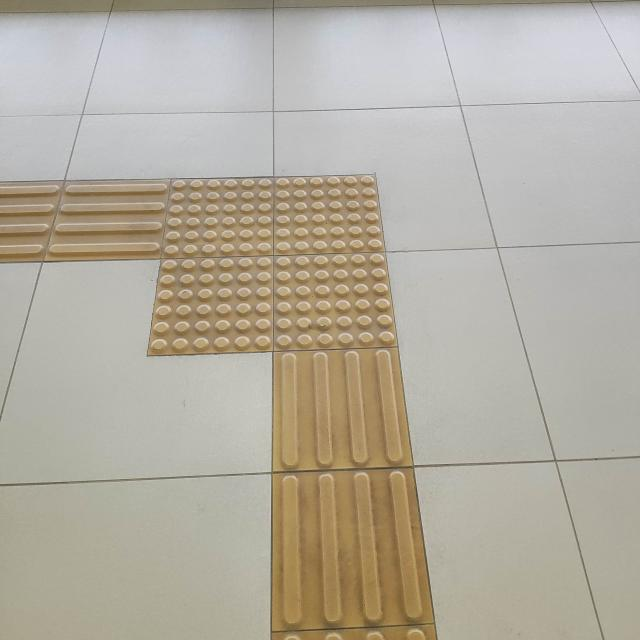kiri: (13, 111, 466, 402)
